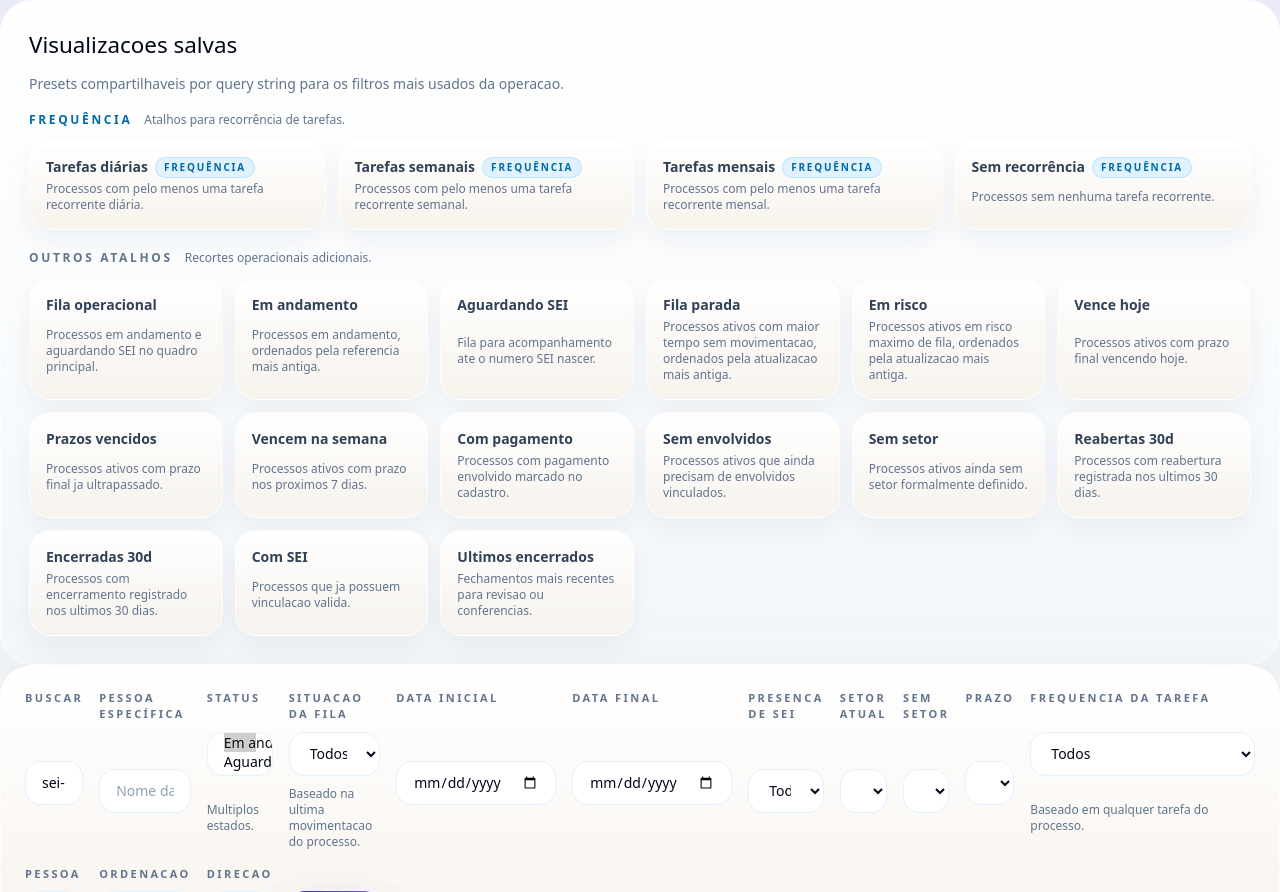
Test: PreDemandasFilters › permite limpar somente a pessoa sem alterar os demais filtros
Type "Maria" into the field named "Buscar pessoa nos filtros" at (145, 791), box top-left (99, 769), bottom-right (191, 813)
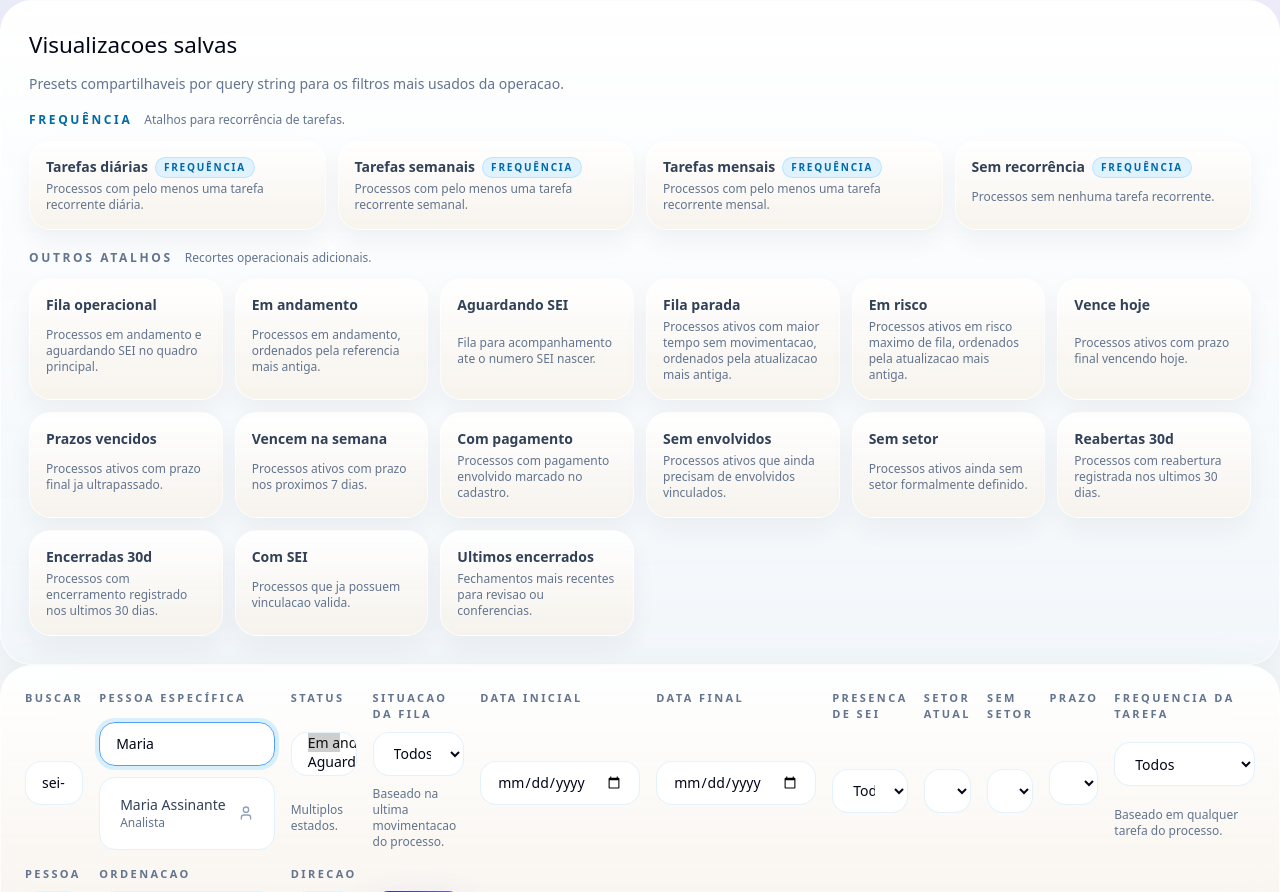
Click the button "Maria Assinante Analista" at (187, 813), box top-left (108, 786), bottom-right (266, 841)
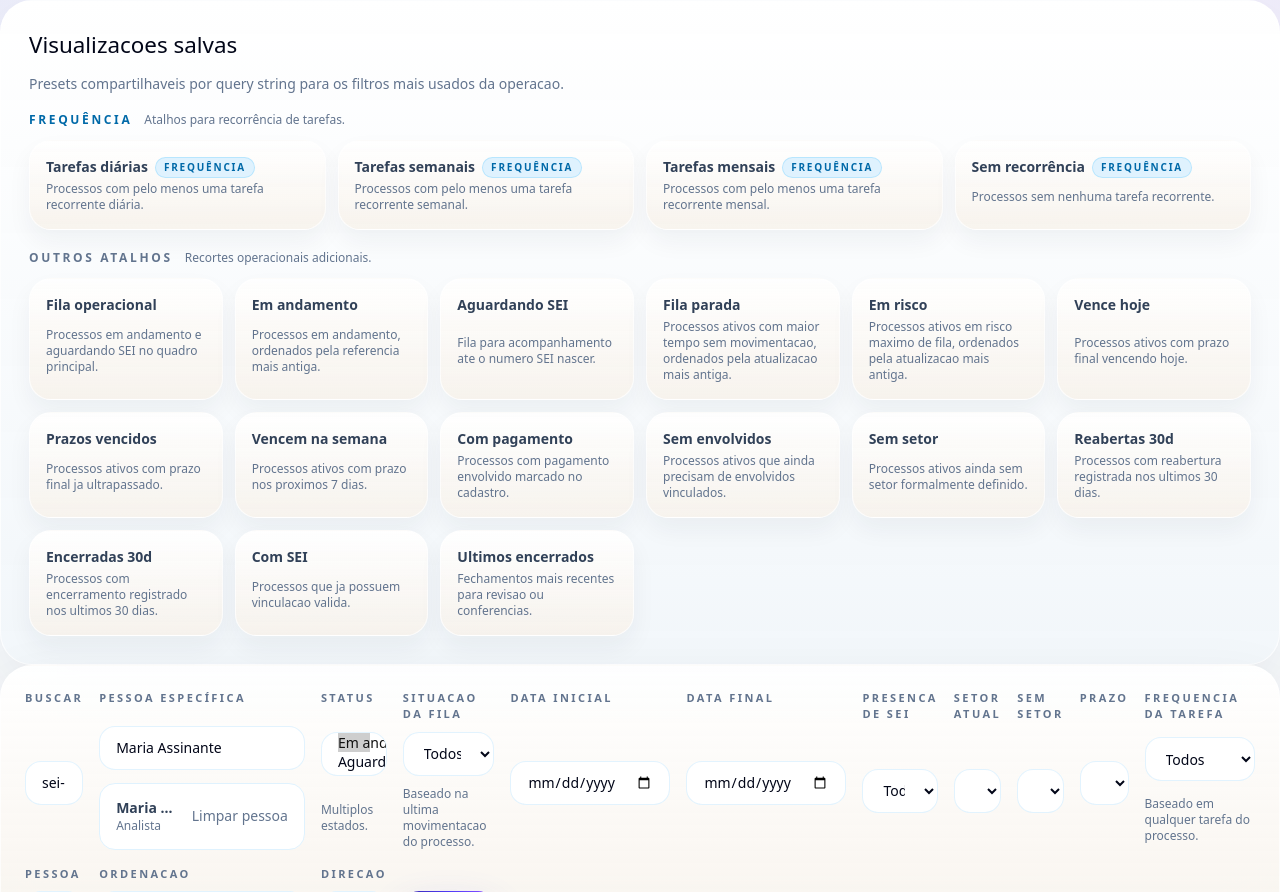
Click the button "Limpar pessoa" at (240, 816), box top-left (192, 806), bottom-right (288, 826)
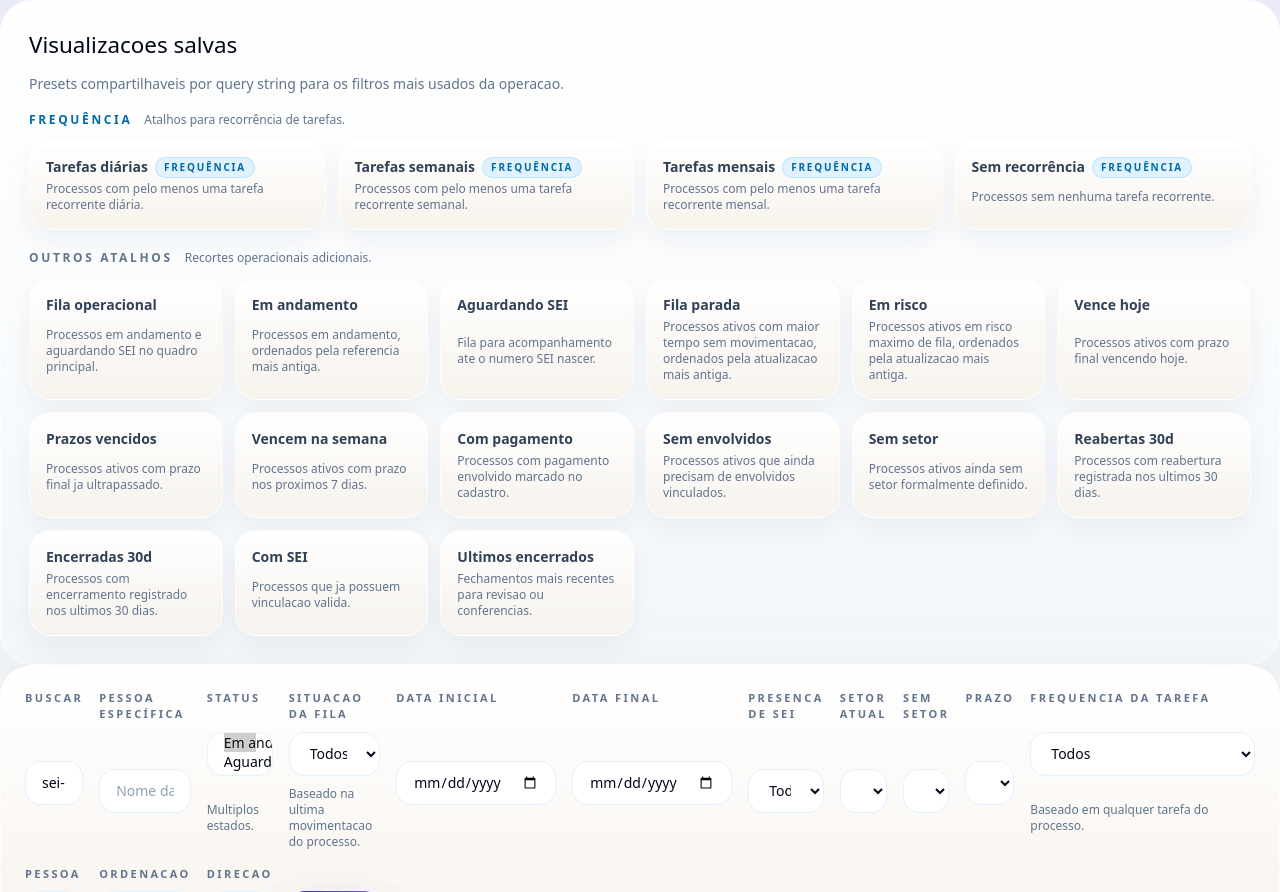
Expected: the field showing "sei-123" is shown, top-left (25, 761), bottom-right (83, 805)
Expected: the field named "Buscar pessoa nos filtros" is empty, top-left (99, 769), bottom-right (191, 813)
Expected: the button "Limpar pessoa" is gone
